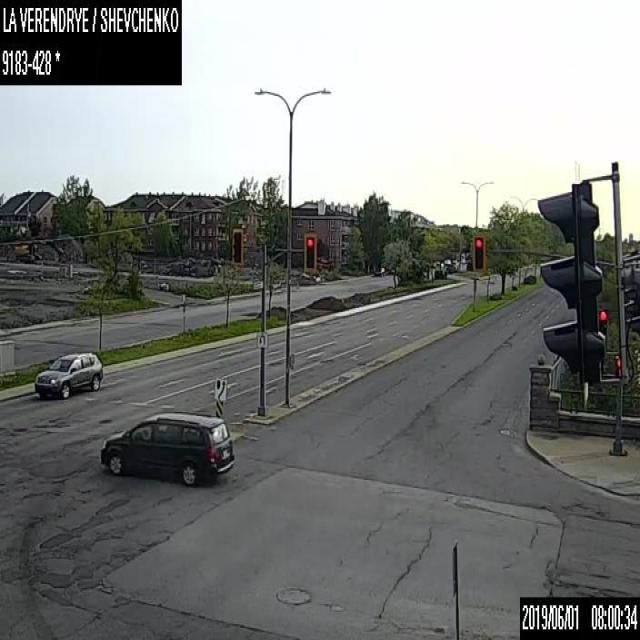vehicle: (98, 407, 235, 484), (31, 351, 102, 397), (374, 266, 385, 276)
